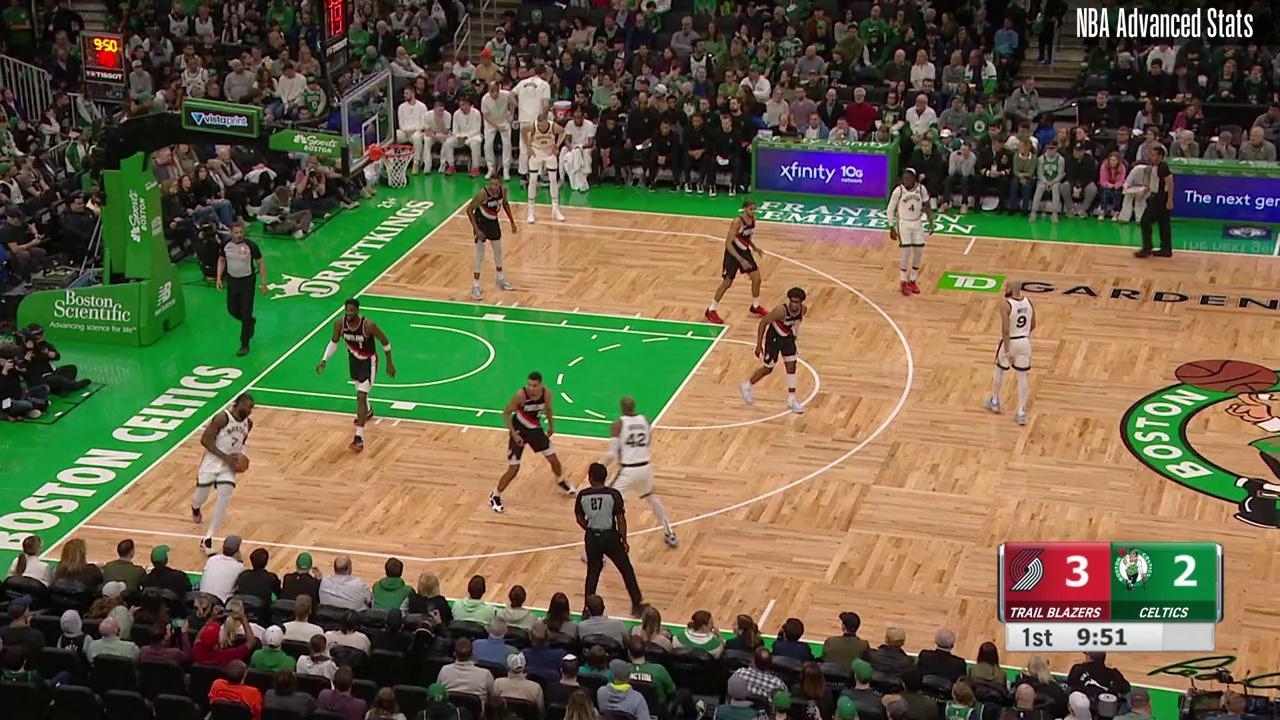3_dx: (448, 211, 458, 220)
3_sx: (74, 521, 85, 530)
b_sx: (33, 553, 45, 564)
free_adx: (722, 322, 732, 330)
free_bdx: (355, 289, 365, 298)
free_bsx: (225, 399, 234, 407)
half_dx: (467, 196, 475, 204)
mid_dx: (961, 252, 968, 258)
mid_sx: (768, 594, 778, 604)
referee: (573, 465, 652, 617), (213, 221, 268, 358), (1134, 146, 1176, 261)
team: (592, 396, 677, 546), (191, 393, 256, 557), (984, 282, 1038, 429), (887, 168, 936, 294), (522, 114, 568, 221)
team1: (490, 371, 578, 515), (315, 298, 396, 454), (742, 287, 811, 416), (702, 199, 772, 323), (465, 177, 517, 295)
